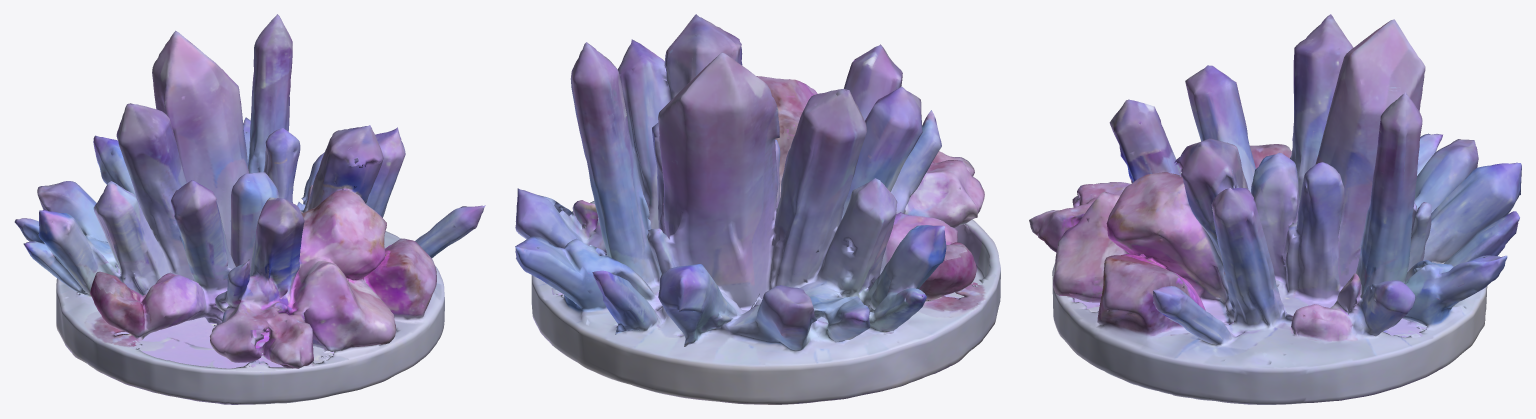
The model's file is Meshy_AI_A_garden_of_cryst_1016200539_texture.fbx.
The picture shows the model from 3 angles, left to right: view 1: azimuth 30°, elevation 25°; view 2: azimuth 150°, elevation 25°; view 3: azimuth 270°, elevation 25°; orthographic projection. The views are drawn at different scales.
Visible parts, largest first — view 1: Mesh1; view 2: Mesh1; view 3: Mesh1.
Part boxes in pixels (x1,y1,x2,y2): Mesh1: (14,14,485,404); Mesh1: (515,14,1000,404); Mesh1: (1029,14,1521,404).
Bounding box in the file's own units: 189 × 128 × 199.
1 material, 1 textured.
